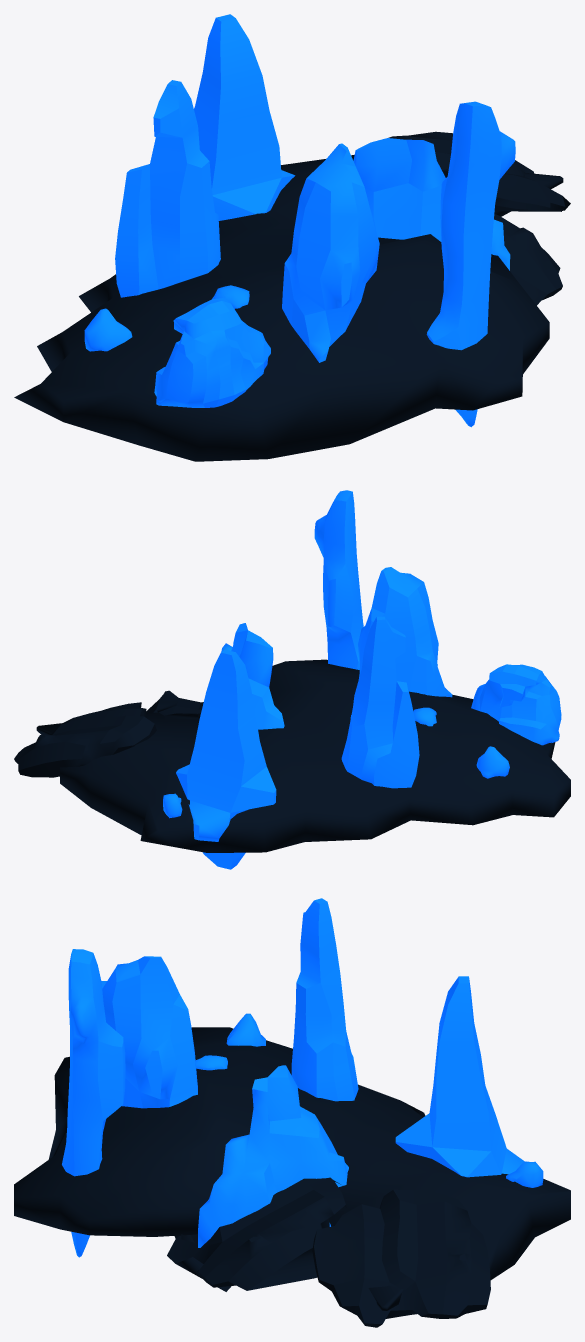
Rendered from pile_blue.glb.
3 views of the same model, one above another, from view 1: azimuth 30°, elevation 25°; view 2: azimuth 150°, elevation 25°; view 3: azimuth 270°, elevation 25° (orthographic). The views are drawn at different scales.
Parts seen in each view (by area): view 1: rock.007, rock.009, rock.008, rock.011, rock.004, rock.017, rock.026, rock.006, rock.001, rock.030, rock.035; view 2: rock.007, rock.004, rock.009, rock.011, rock.008, rock.006, rock.017, rock.026, rock.001, rock.030; view 3: rock.007, rock.006, rock.026, rock.004, rock.001, rock.008, rock.011, rock.009, rock.030, rock.032.
Boxes of the visible parts, bbox=[...] form: rock.007: bbox=[14, 155, 563, 461]; rock.009: bbox=[115, 80, 220, 297]; rock.008: bbox=[282, 143, 379, 362]; rock.011: bbox=[426, 101, 515, 427]; rock.004: bbox=[194, 14, 295, 220]; rock.017: bbox=[154, 298, 270, 407]; rock.026: bbox=[353, 138, 510, 270]; rock.006: bbox=[388, 131, 570, 211]; rock.001: bbox=[494, 214, 562, 305]; rock.030: bbox=[84, 308, 132, 351]; rock.035: bbox=[212, 285, 249, 308]; rock.007: bbox=[36, 659, 570, 852]; rock.004: bbox=[176, 649, 276, 869]; rock.009: bbox=[341, 616, 419, 788]; rock.011: bbox=[314, 490, 363, 669]; rock.008: bbox=[358, 567, 452, 697]; rock.006: bbox=[14, 702, 156, 777]; rock.017: bbox=[471, 664, 561, 745]; rock.026: bbox=[221, 623, 284, 729]; rock.001: bbox=[146, 690, 203, 720]; rock.030: bbox=[476, 746, 509, 778]; rock.007: bbox=[14, 1027, 570, 1310]; rock.006: bbox=[312, 1189, 490, 1327]; rock.026: bbox=[198, 1065, 348, 1247]; rock.004: bbox=[395, 976, 524, 1177]; rock.001: bbox=[167, 1177, 346, 1291]; rock.008: bbox=[102, 956, 197, 1108]; rock.011: bbox=[62, 949, 125, 1257]; rock.009: bbox=[291, 898, 358, 1101]; rock.030: bbox=[226, 1013, 265, 1046]; rock.032: bbox=[506, 1161, 543, 1187].
Bounding box in the file's own units: 34.94 × 18.17 × 28.82.
